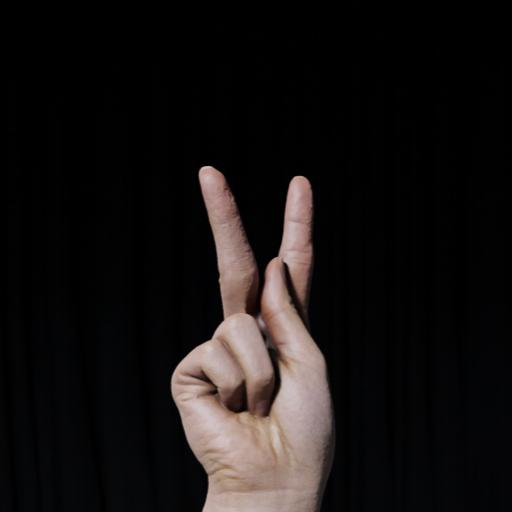K: (166, 152, 350, 510)
